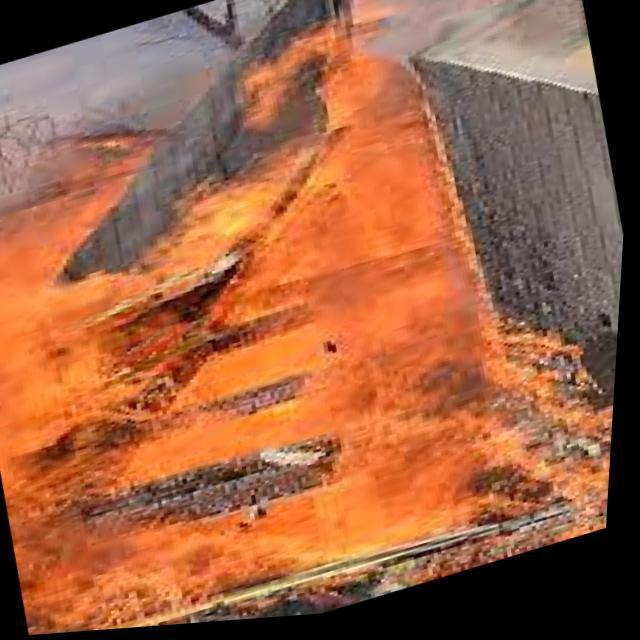fire: (0, 116, 536, 640), (244, 18, 432, 170)
